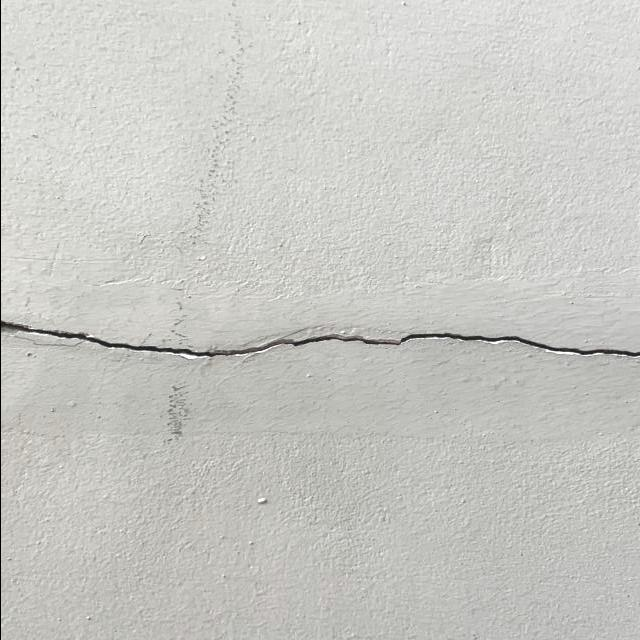SurfaceCrack: (0, 267, 639, 414)
